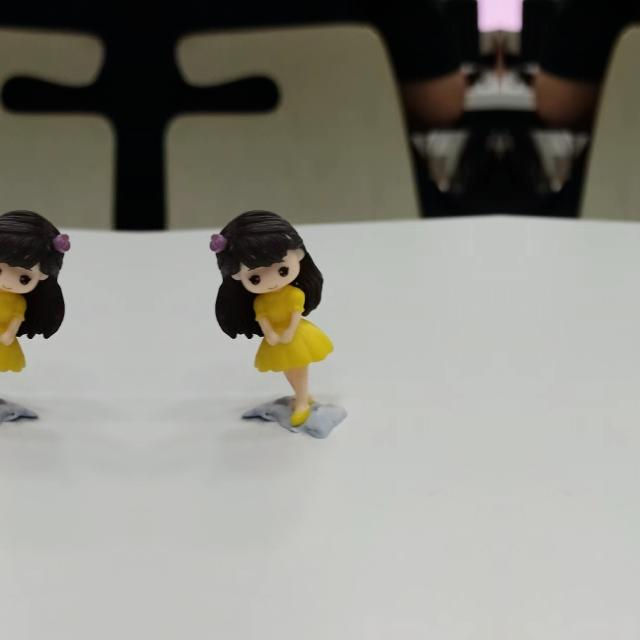woman head: (208, 205, 308, 297), (0, 205, 71, 297)
